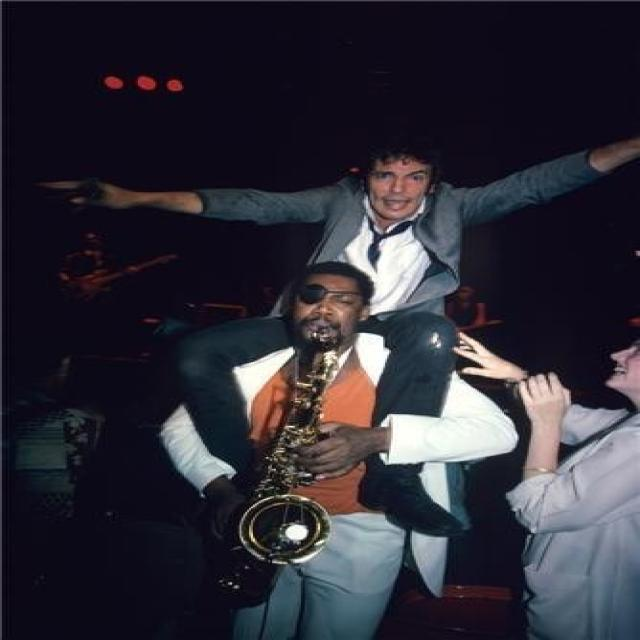saxophone: (212, 323, 337, 608)
